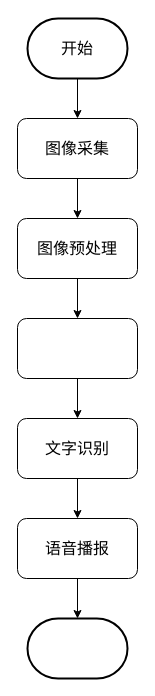
This 155x696 diagram has some shape labels left out. The centre of each missing label's shape, as x and y in pixels:
"文本区域提取" belongs at (77,348).
"结束" belongs at (77,648).
